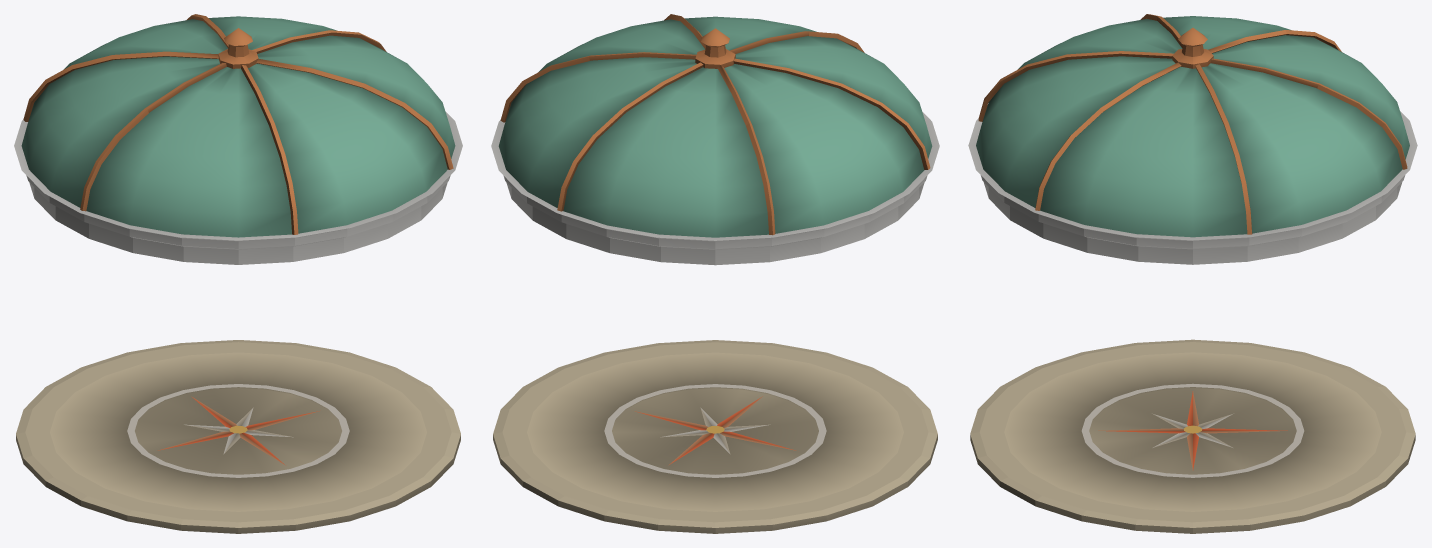
3 views of the same model, side by side, from view 1: azimuth 30°, elevation 25°; view 2: azimuth 150°, elevation 25°; view 3: azimuth 270°, elevation 25° (orthographic).
Parts seen in each view (by area): view 1: static_sunset; view 2: static_sunset; view 3: static_sunset.
Boxes of the visible parts, x1=… form: static_sunset: x1=14, y1=14, x2=462, y2=533; static_sunset: x1=491, y1=14, x2=939, y2=533; static_sunset: x1=968, y1=14, x2=1417, y2=533.
Bounding box in the file's own units: 4.76 × 4.82 × 4.76.
